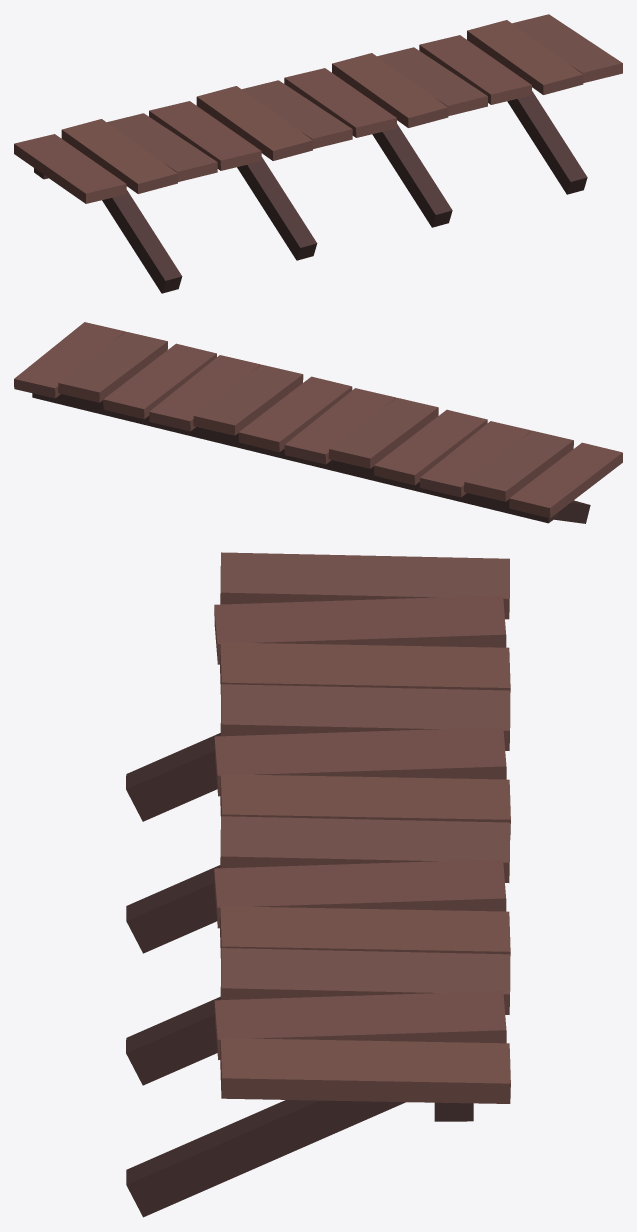
The model's file is LightRoseWoodFloorLargePlatform1.fbx.
3 renders of one model, top to bottom at view 1: azimuth 30°, elevation 25°; view 2: azimuth 150°, elevation 25°; view 3: azimuth 270°, elevation 25°, orthographic. The views are drawn at different scales.
Visible parts, largest first — view 1: LightRoseWoodFloorLargePlatform1; view 2: LightRoseWoodFloorLargePlatform1; view 3: LightRoseWoodFloorLargePlatform1.
Boxes of the visible parts, x1,y1,x2,y2 form: LightRoseWoodFloorLargePlatform1: [14, 14, 622, 293]; LightRoseWoodFloorLargePlatform1: [14, 322, 622, 523]; LightRoseWoodFloorLargePlatform1: [126, 552, 510, 1217].
Size of the model in its own units: 1161 by 208 by 360.
